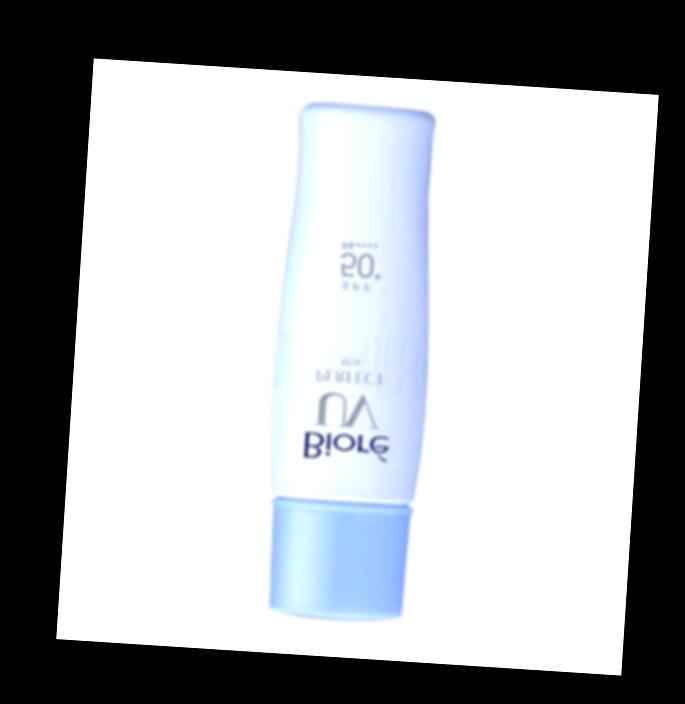cosmetic: (261, 105, 442, 617)
